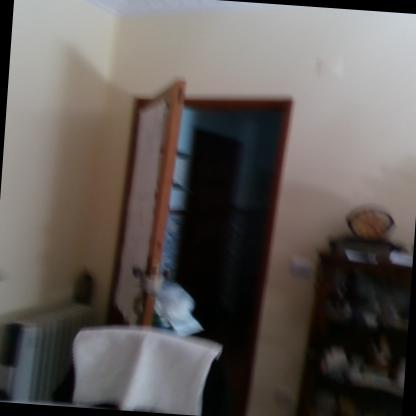semi: (96, 66, 302, 415)
